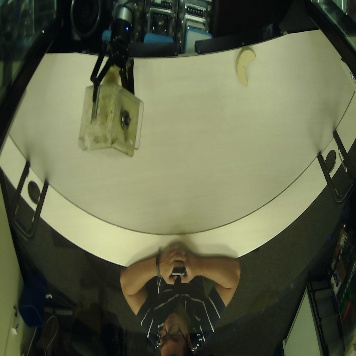full_cup: (102, 64, 124, 93)
puck: (234, 46, 259, 87)
